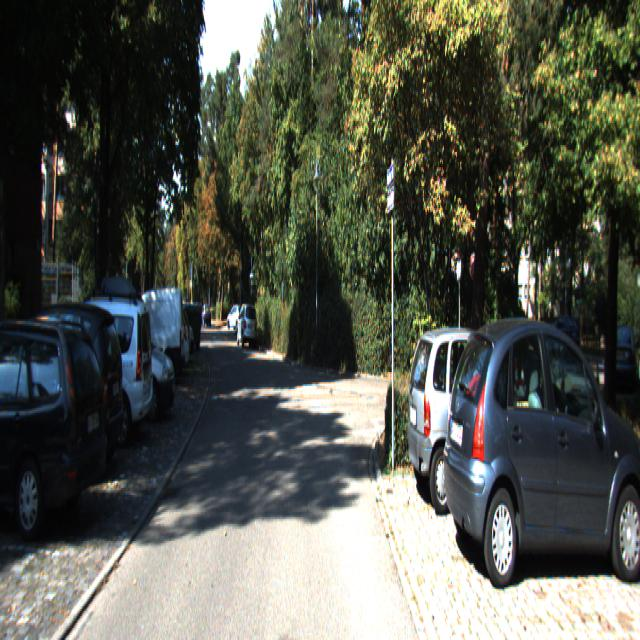Car: (440, 309, 640, 602), (404, 316, 558, 522), (0, 310, 110, 540), (0, 298, 128, 479), (18, 289, 154, 457), (79, 273, 176, 427), (111, 287, 183, 391), (236, 303, 258, 349)
